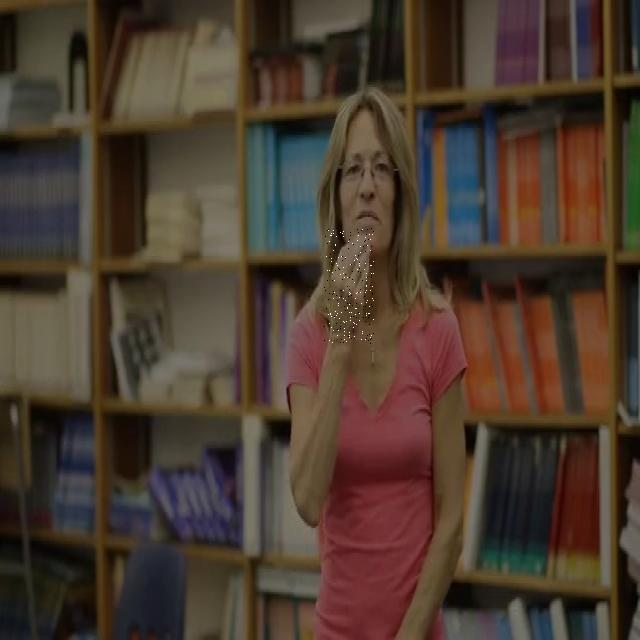warm: (324, 228, 374, 344)
